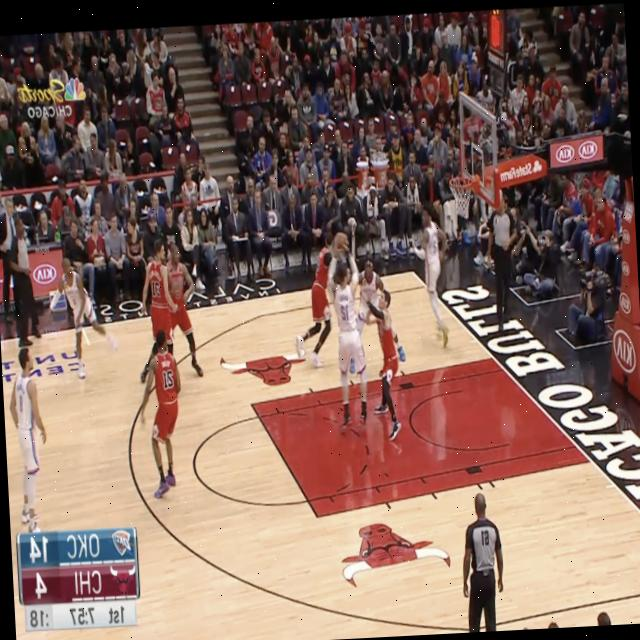no foul: (287, 229, 420, 434), (126, 241, 220, 513)
